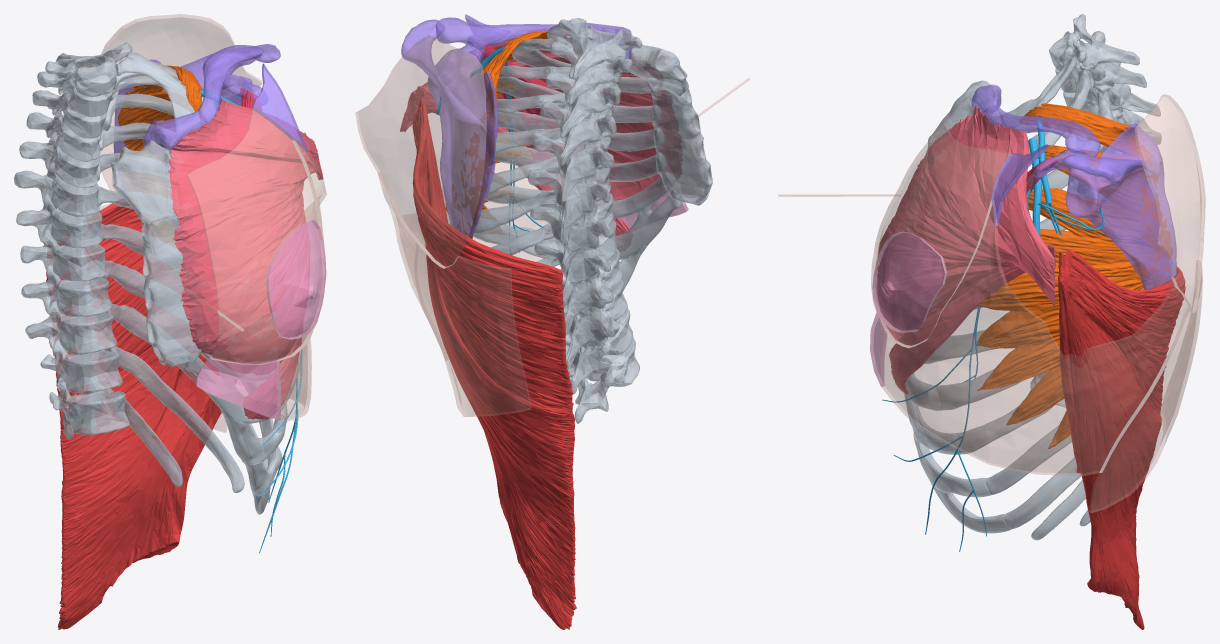
File: torso-mastology.glb
3 views of the same model, side by side, from view 1: azimuth 30°, elevation 25°; view 2: azimuth 150°, elevation 25°; view 3: azimuth 270°, elevation 25° (orthographic). The views are drawn at different scales.
Parts seen in each view (by area): view 1: Latissimus_dorsi_musclel, Sternocostal_head_of_pectoralis_major_musclel, Pectoral_regionl, Body_of_sternum, Mammary_regionl, Clavicular_head_of_pectoralis_major_musclel, Scapular_regionl, Manubrium_of_sternum, Inframammary_regionl, Lateral_region_of_thoraxl, Scapulal, Claviclel (+30 smaller); view 2: Latissimus_dorsi_musclel, Scapular_regionl, Infrascapular_regionl, Scapulal, Body_of_sternum, Sternocostal_head_of_pectoralis_major_musclel, Lateral_region_of_thoraxl, Serratus_anterior_musclel, Vertebra_T6, Vertebra_T1, Vertebra_T7, Claviclel (+26 smaller); view 3: Lateral_region_of_thoraxl, Latissimus_dorsi_musclel, Serratus_anterior_musclel, Sternocostal_head_of_pectoralis_major_musclel, Pectoral_regionl, Scapulal, Scapular_regionl, Infrascapular_regionl, Clavicular_head_of_pectoralis_major_musclel, Mammary_regionl, (Abdominal_part_of_pectoralis_major_muscle)l, Claviclel (+21 smaller).
Part boxes in pixels (box(x1,y1,x2,y2)): Latissimus_dorsi_musclel: box(46, 203, 236, 629); Sternocostal_head_of_pectoralis_major_musclel: box(168, 149, 314, 374); Pectoral_regionl: box(186, 106, 325, 364); Body_of_sternum: box(141, 214, 201, 367); Mammary_regionl: box(266, 220, 326, 339); Clavicular_head_of_pectoralis_major_musclel: box(171, 98, 323, 179); Scapular_regionl: box(100, 14, 262, 190); Manubrium_of_sternum: box(110, 140, 176, 225); Inframammary_regionl: box(196, 357, 281, 420); Lateral_region_of_thoraxl: box(277, 139, 326, 420); Scapulal: box(113, 44, 280, 153); Claviclel: box(143, 45, 263, 149); Latissimus_dorsi_musclel: box(412, 97, 576, 629); Scapular_regionl: box(355, 35, 486, 268); Infrascapular_regionl: box(414, 241, 530, 416); Scapulal: box(401, 19, 498, 238); Body_of_sternum: box(651, 77, 712, 205); Sternocostal_head_of_pectoralis_major_musclel: box(407, 55, 681, 202); Lateral_region_of_thoraxl: box(378, 162, 548, 360); Serratus_anterior_musclel: box(445, 31, 548, 238); Vertebra_T6: box(528, 167, 611, 243); Vertebra_T1: box(558, 18, 642, 79); Vertebra_T7: box(530, 193, 613, 272); Claviclel: box(435, 17, 631, 58); Lateral_region_of_thoraxl: box(881, 200, 1191, 475); Latissimus_dorsi_musclel: box(1058, 250, 1185, 629); Serratus_anterior_musclel: box(976, 103, 1172, 448); Sternocostal_head_of_pectoralis_major_musclel: box(877, 114, 1054, 340); Pectoral_regionl: box(871, 123, 1010, 347); Scapulal: box(1033, 123, 1176, 289); Scapular_regionl: box(1135, 94, 1205, 312); Infrascapular_regionl: box(1089, 260, 1202, 512); Clavicular_head_of_pectoralis_major_musclel: box(973, 106, 1055, 306); Mammary_regionl: box(872, 232, 946, 332); (Abdominal_part_of_pectoralis_major_muscle)l: box(889, 245, 1055, 394); Claviclel: box(971, 84, 1100, 156).
Size of the model in its own units: 1.92 by 4.2 by 2.74.
